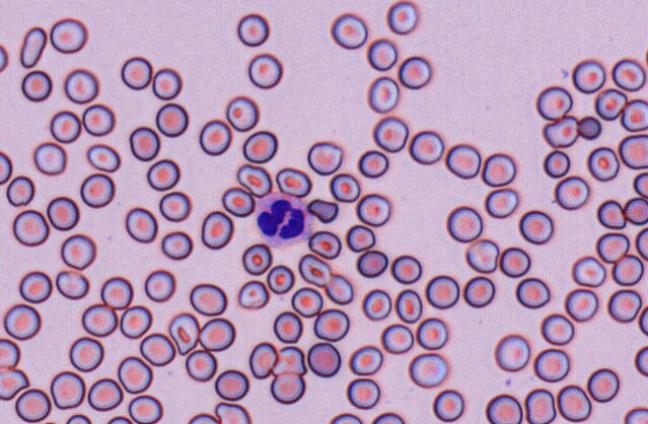GRAN: (254, 193, 313, 246)
RBC: (407, 352, 447, 388), (3, 303, 41, 340), (330, 12, 368, 49), (49, 370, 85, 409), (49, 17, 88, 53), (446, 205, 483, 242), (12, 209, 49, 246), (494, 333, 530, 371), (60, 233, 96, 270), (444, 143, 481, 179), (247, 52, 283, 89), (117, 355, 152, 393), (372, 116, 408, 152), (556, 384, 591, 421), (535, 85, 572, 120), (189, 282, 227, 316), (200, 210, 233, 249), (15, 387, 51, 422), (69, 336, 104, 372), (306, 341, 341, 377), (553, 175, 589, 210), (80, 172, 115, 208), (63, 68, 99, 103), (198, 317, 235, 351), (607, 288, 642, 323), (518, 209, 553, 244), (571, 58, 606, 93), (87, 377, 123, 411), (139, 332, 175, 366), (81, 303, 117, 337), (533, 348, 569, 382), (198, 119, 232, 155), (225, 95, 259, 131), (367, 75, 399, 113), (236, 163, 271, 197), (465, 238, 499, 273), (425, 274, 459, 309), (481, 152, 516, 186), (611, 57, 646, 91), (409, 130, 444, 164), (313, 308, 349, 341), (125, 206, 157, 243), (564, 287, 598, 321), (270, 371, 305, 404), (523, 388, 556, 423), (586, 367, 619, 402), (355, 193, 390, 226), (155, 102, 188, 137), (242, 130, 277, 163), (587, 146, 620, 181), (248, 341, 278, 379), (298, 253, 331, 287), (119, 304, 152, 338), (146, 158, 180, 191), (18, 270, 52, 303), (33, 141, 66, 175), (46, 196, 79, 230), (81, 103, 115, 136), (398, 55, 431, 89), (386, 0, 419, 34), (236, 12, 269, 46), (214, 369, 249, 401), (571, 255, 606, 287), (275, 166, 311, 197), (129, 125, 160, 161), (485, 393, 522, 423), (611, 253, 644, 286), (100, 276, 133, 309), (594, 87, 627, 120), (346, 377, 380, 409), (540, 313, 574, 345), (144, 268, 176, 302), (120, 56, 152, 90), (348, 344, 383, 375), (515, 277, 550, 308), (432, 388, 464, 421), (415, 317, 447, 350), (596, 231, 629, 263), (158, 190, 191, 222), (49, 110, 81, 143), (272, 345, 306, 376), (484, 187, 518, 218), (618, 133, 647, 169), (185, 349, 217, 381), (463, 275, 495, 307), (221, 186, 254, 217), (241, 242, 272, 275), (21, 69, 52, 102), (366, 38, 397, 71), (380, 323, 414, 353), (55, 269, 89, 299), (128, 394, 163, 423), (291, 286, 323, 317), (152, 67, 182, 100), (86, 143, 120, 172), (394, 288, 422, 323), (499, 246, 530, 277), (237, 279, 269, 309), (361, 288, 391, 320), (390, 254, 422, 284), (160, 230, 192, 260), (273, 310, 302, 343), (329, 172, 360, 202), (356, 249, 388, 278), (357, 149, 389, 178), (620, 98, 647, 132), (324, 273, 353, 304), (6, 175, 35, 206), (266, 264, 294, 294), (345, 224, 375, 252), (214, 401, 251, 423), (542, 149, 570, 178), (623, 196, 647, 225), (0, 337, 20, 368), (0, 150, 12, 184), (635, 226, 647, 260), (623, 406, 647, 423), (371, 411, 405, 423), (634, 345, 647, 376), (633, 171, 647, 198), (328, 412, 362, 423), (187, 412, 219, 423), (638, 305, 647, 335), (65, 413, 91, 423), (0, 44, 8, 72), (106, 415, 132, 423), (644, 45, 648, 66)
Schistocyte: (542, 114, 579, 149), (170, 312, 199, 355), (21, 26, 47, 67), (308, 229, 343, 259), (598, 199, 628, 230), (307, 199, 340, 224), (576, 114, 603, 139)
